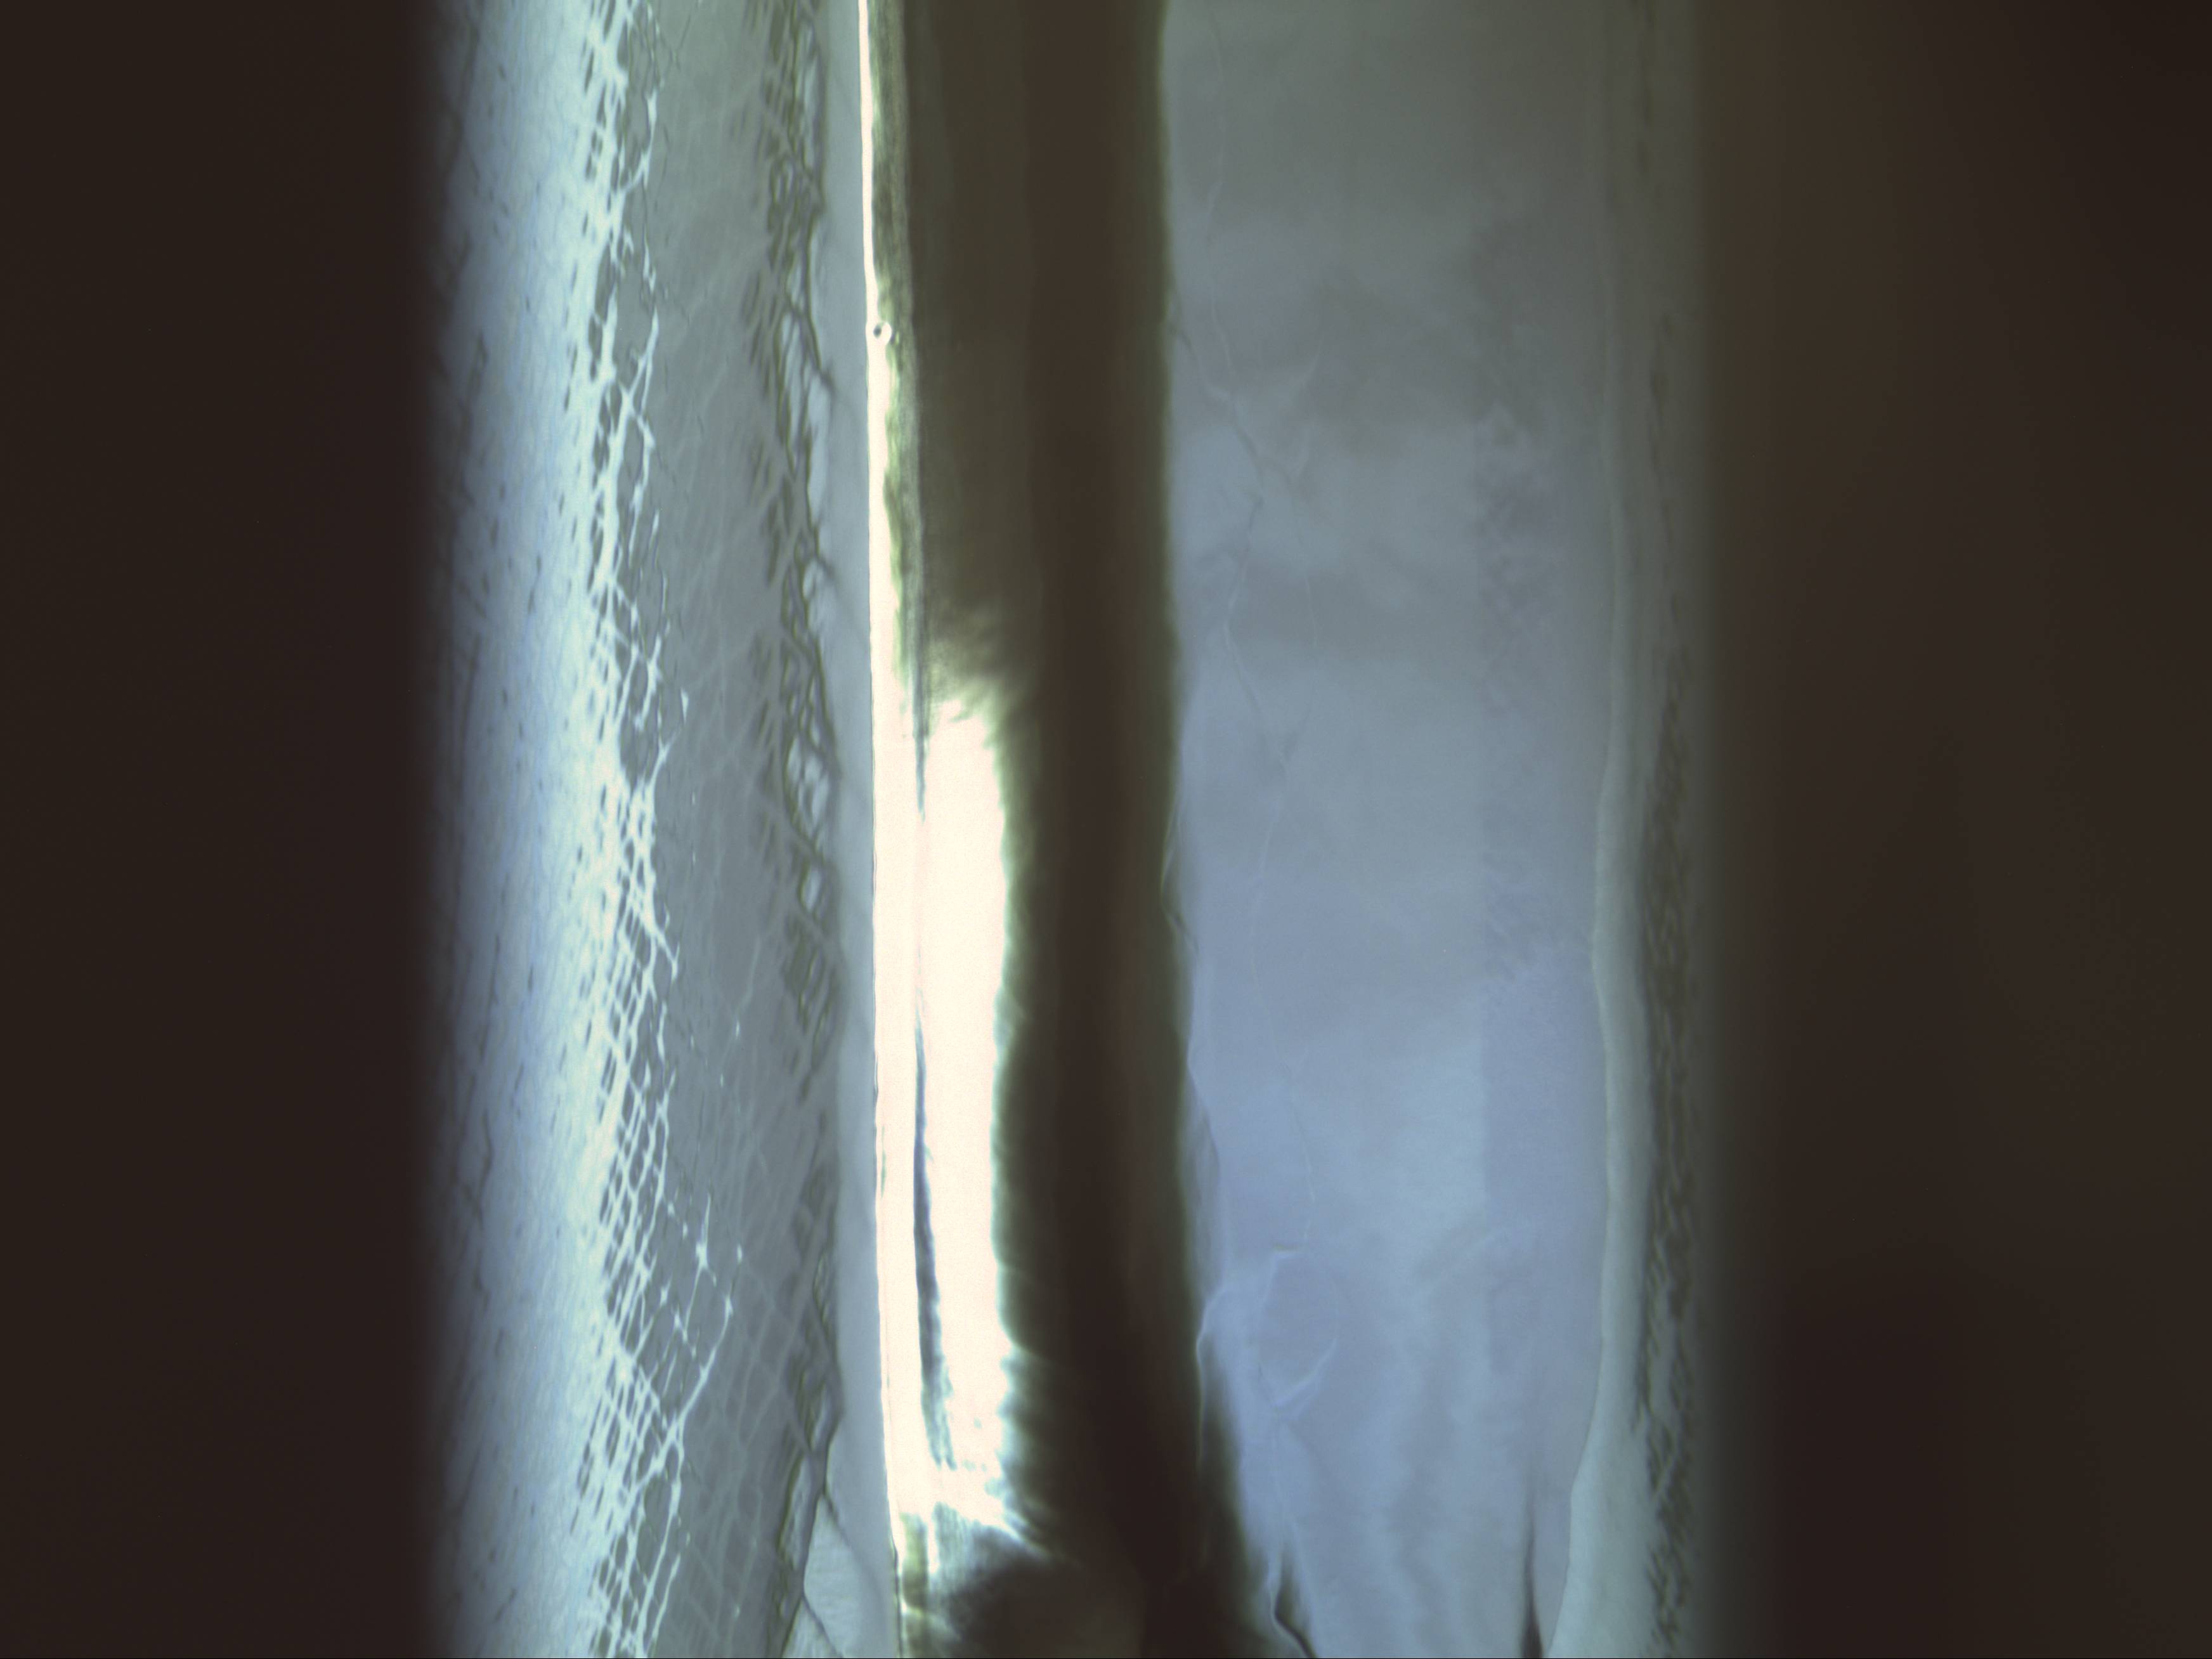defect: (867, 317, 897, 345)
